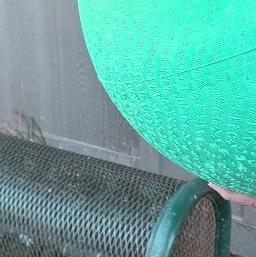algae: (78, 0, 256, 200)
